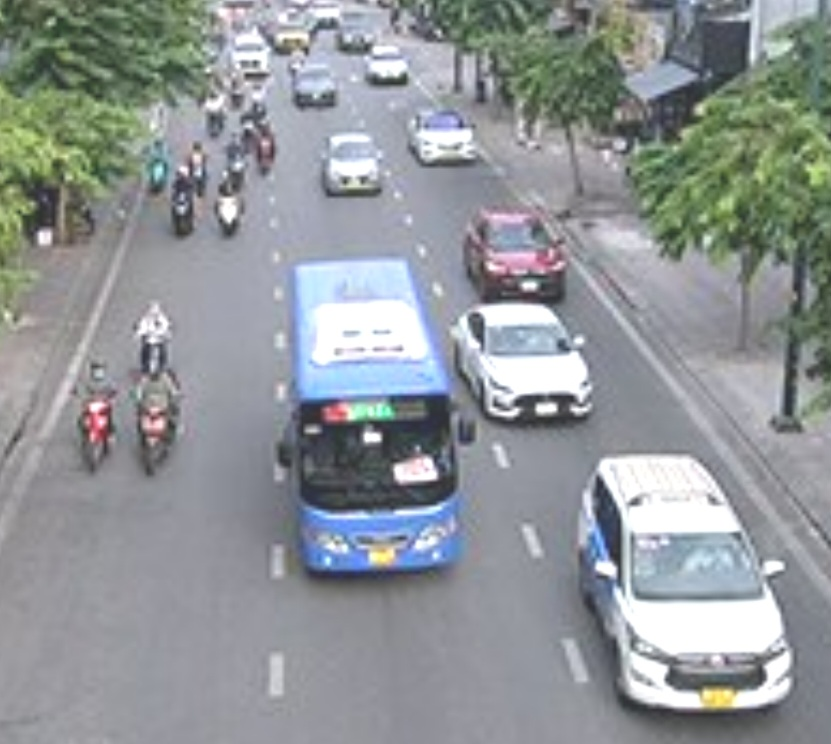car: (572, 456, 798, 710), (449, 307, 596, 425), (460, 206, 574, 304), (405, 108, 479, 165), (322, 132, 382, 194), (291, 65, 335, 107), (363, 46, 410, 84), (230, 34, 271, 76)
